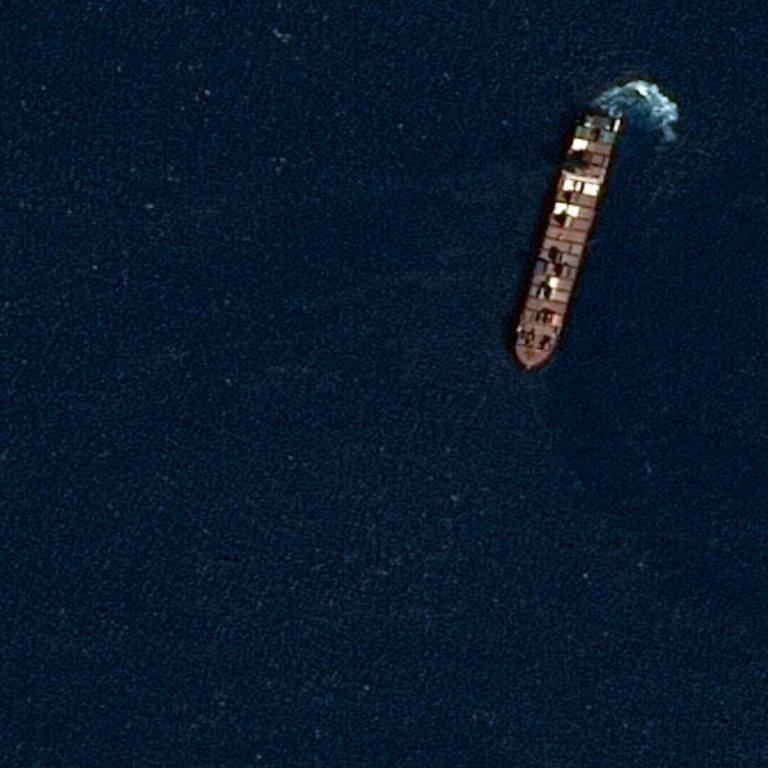ship: (536, 86, 601, 381), (522, 361, 533, 371), (578, 108, 587, 116), (614, 116, 623, 124)
